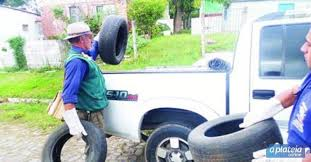tire: (189, 114, 279, 161), (42, 120, 106, 162), (144, 121, 203, 162), (99, 15, 128, 65)
